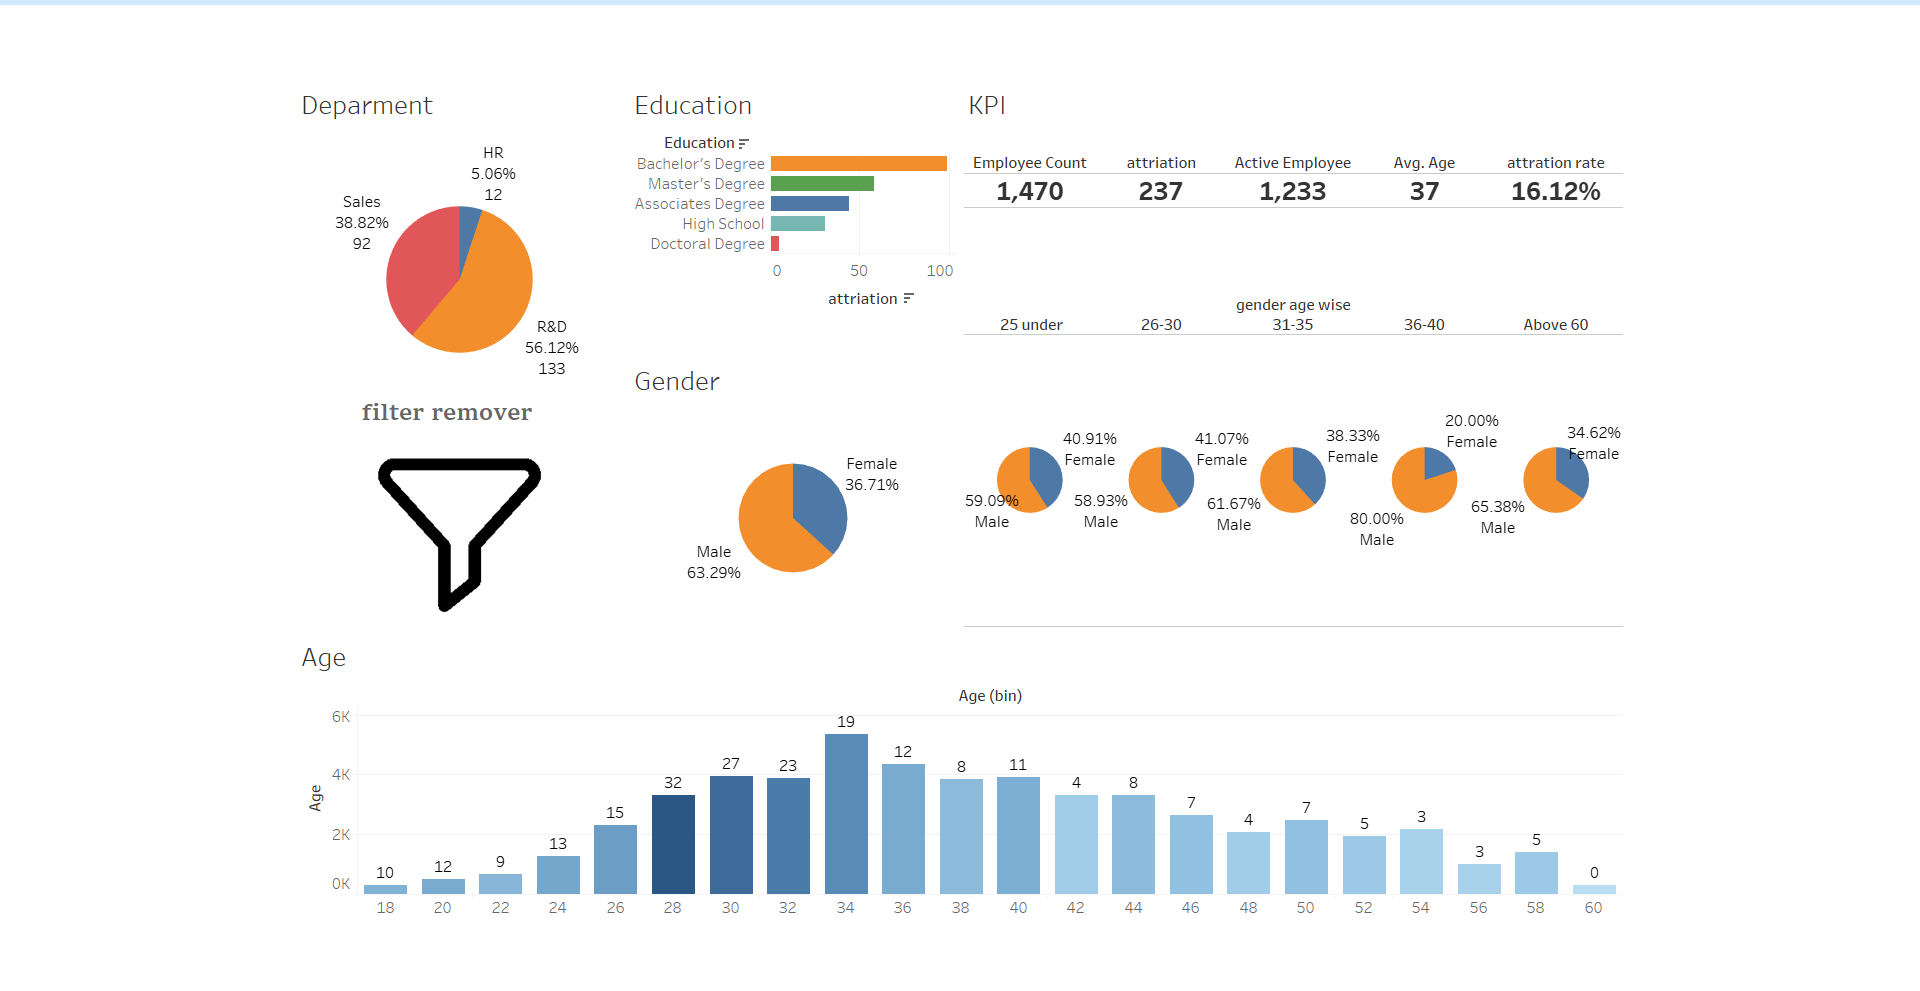

This screenshot's page, from the dashboard's own definition file:
{"tool":"tableau","page":{"name":"Dashboard 1","canvas":[1000,1000],"units":"permille","ordinal":0},"visuals":[{"type":"worksheet","title":"Deparment","mark":"Pie","box":[5.9,10,247,407.7]},{"type":"worksheet","title":"Education","mark":"Automatic","rows":["Education"],"cols":["Calculation_1862519957904461824"],"box":[253,10,247,320.4]},{"type":"worksheet","title":"KPI","mark":"Automatic","box":[500,10,494.1,245]},{"type":"worksheet","title":"Sheet 7","mark":"Pie","cols":["Calculation_1862519957950328835"],"box":[500,255,494.1,395.9]},{"type":"worksheet","title":"Gender ","mark":"Pie","box":[253,330.4,247,320.4]},{"type":"image","param":"Image/bbbbbbbbbbbbbbb.png","box":[5.9,417.7,247,233.2]},{"type":"worksheet","title":"Age","mark":"Automatic","rows":["Age"],"cols":["Age (bin)"],"box":[5.9,650.9,988.1,339.2]}]}

Visuals, with their boxes on the dashboard's canvas, which has no fixed pixel size, in thousandths of its width and height (x1, y1, x2, y2). These are canvas units, not pixel positions in the 1920x991 screenshot, which may show the page scaled, cropped or inside an application window:
"Deparment" worksheet (Pie marks): l=6, t=10, r=253, b=418
"Education" worksheet: l=253, t=10, r=500, b=330
"KPI" worksheet: l=500, t=10, r=994, b=255
"Sheet 7" worksheet (Pie marks): l=500, t=255, r=994, b=651
"Gender " worksheet (Pie marks): l=253, t=330, r=500, b=651
image: l=6, t=418, r=253, b=651
"Age" worksheet: l=6, t=651, r=994, b=990
